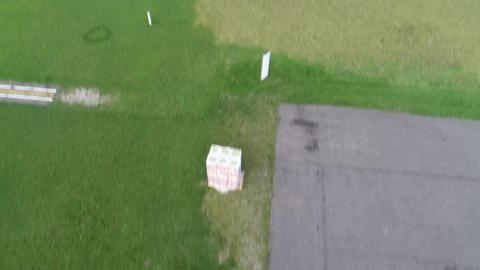RockwoolPallet: (204, 143, 245, 190)
